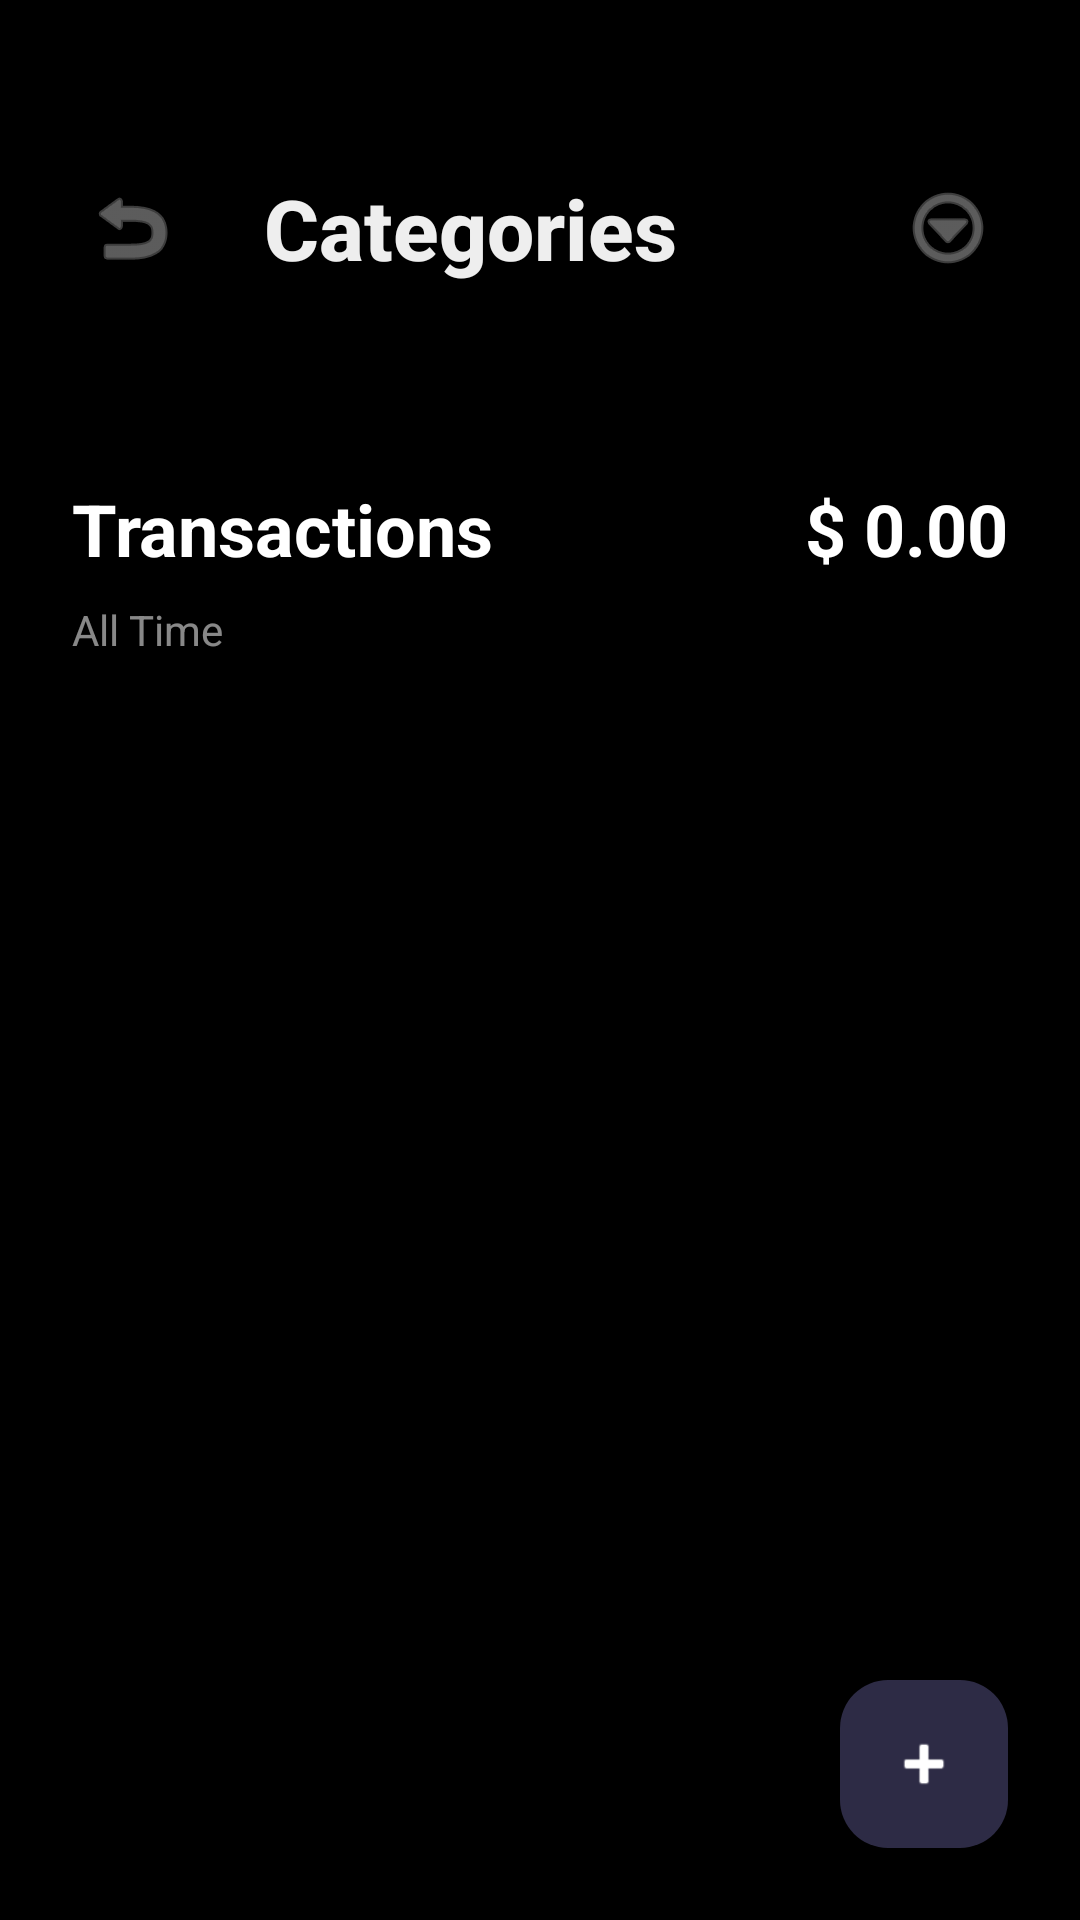

Point at icon controls on the screen. Image size 1080w x 1920h, points as [x,y].
Add: [924,1764]
Back: [133,229]
Options: [948,228]
